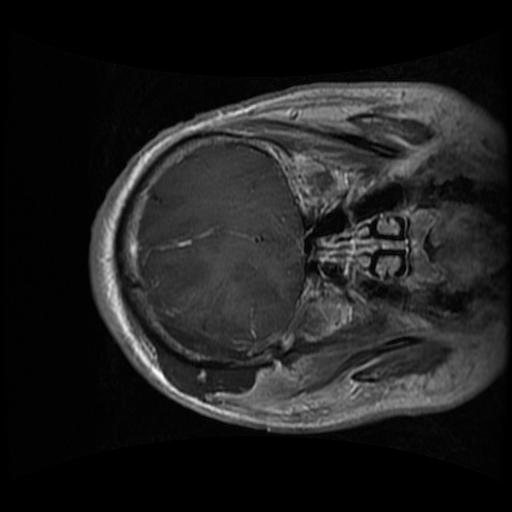glioma: (154, 294, 247, 361)
